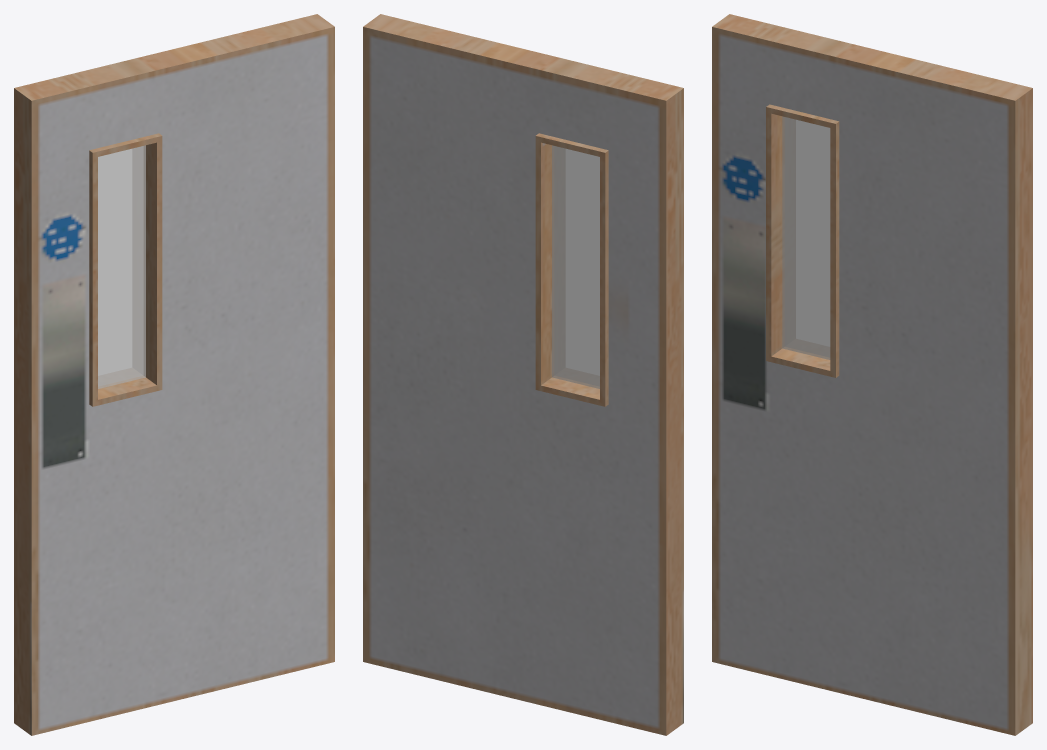
The model's file is DoubleDoorRight.fbx.
3 renders of one model, left to right at view 1: azimuth 30°, elevation 25°; view 2: azimuth 150°, elevation 25°; view 3: azimuth 330°, elevation 25°, orthographic.
Parts seen in each view (by area): view 1: StairDoorRight; view 2: StairDoorRight; view 3: StairDoorRight.
Boxes of the visible parts, bbox=[...] form: StairDoorRight: bbox=[14, 14, 334, 735]; StairDoorRight: bbox=[363, 14, 683, 735]; StairDoorRight: bbox=[712, 14, 1032, 735].
Bounding box in the file's own units: 100 × 200 × 14.
2 materials, 1 textured.
